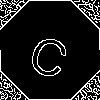C: (25, 25, 76, 81)
